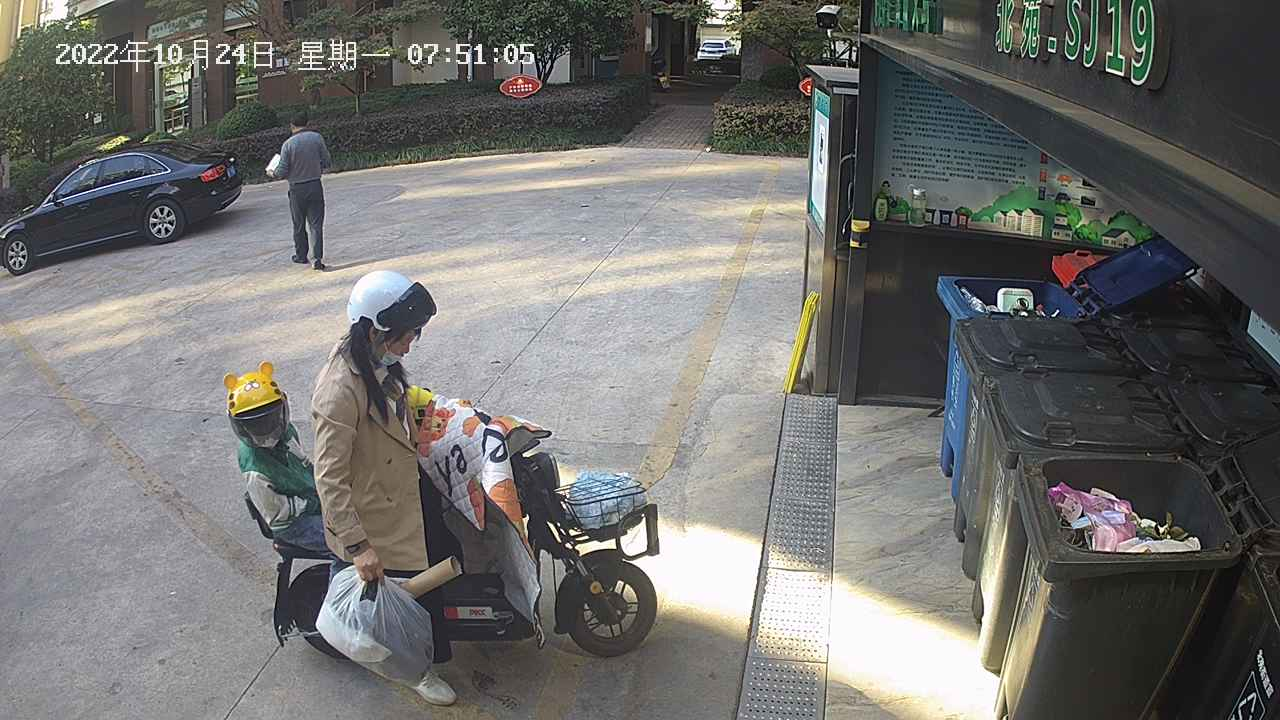garbage-bag: (312, 562, 440, 686)
person: (309, 267, 475, 711), (216, 357, 333, 562), (264, 106, 337, 273)
